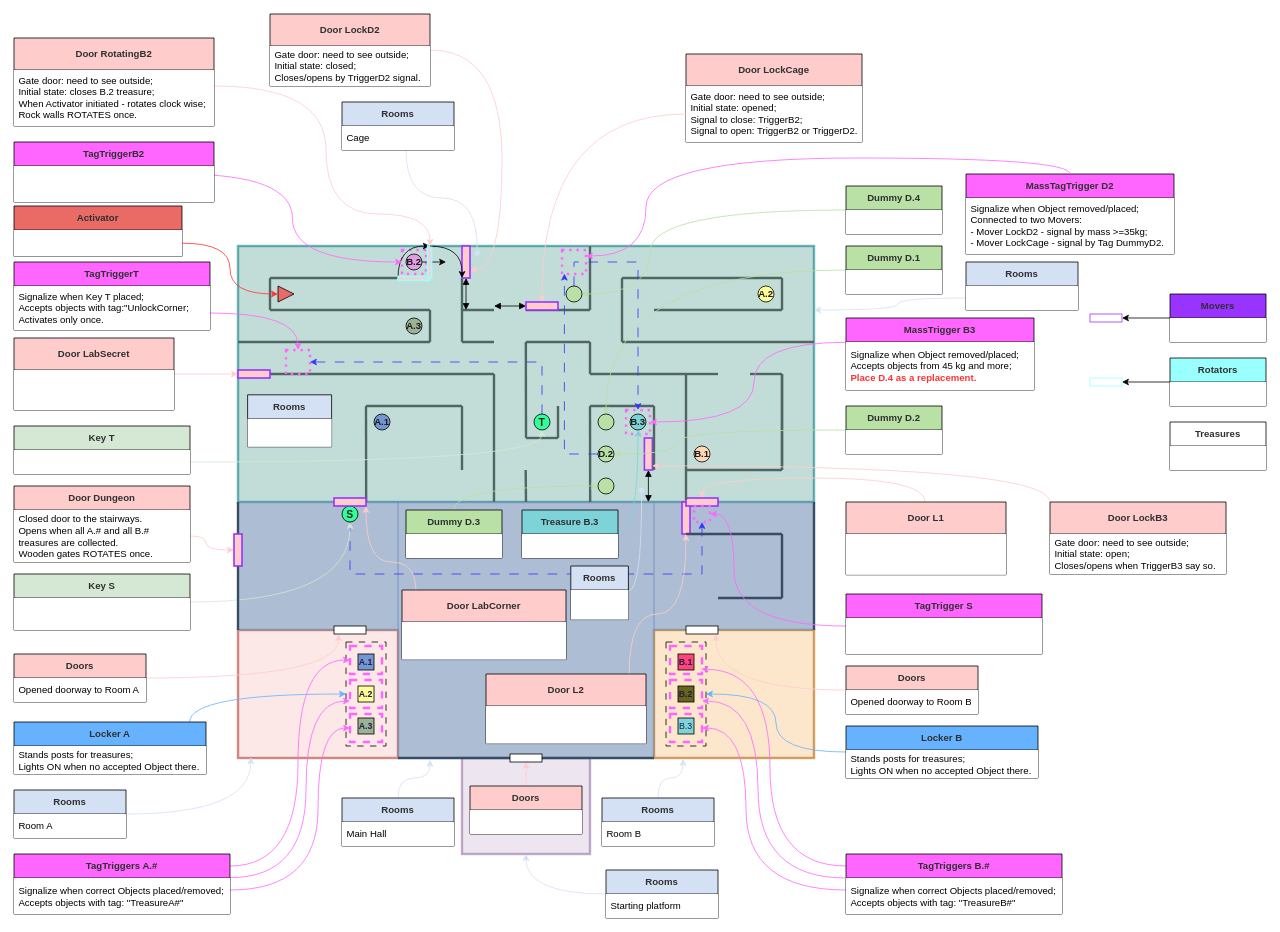
This 1280x932 diagram has some shape labels left out. The centre of each missing label's shape, as x and y in pixels:
Acitvate tunnel to the A.3 treasure; Move objects and activate.: point 98,243
Closed door to the labyrinth; Opens with key S; Moves UP once.: point 926,554
Closed secret labyrinth door; Opens Trigger T says so; Moves UP once.: point 94,390
Closed shortcut labyrinth door; Opens when door L1 opens; Moves UP once.: point 566,724
Closed shortcut labyrinth door; Opens when door LabSecret opens; Moves UP once.: point 484,640
D.1: point 605,421
D.3: point 605,485
D.4: point 573,293
Key to the labyrinth Door L.1; Tag: "UnlockLabyrinth".: point 102,614
Key to the shortcut South East corner: point 102,462
Labyrinth: point 1022,298
m = 10kg: point 454,546
m = 20kg: point 894,282
m = 40kg: point 894,442
m = 50kg: point 894,222
m = 55 kg: point 570,546
Move door: point 1218,330
Open door to the Hall: point 526,822
Rotate door: point 1218,394
Signalize when Key S placed/removed; Accepts objects with tag:"UnlockLabyrinth": point 944,636
Signalize when treasure B2 placed/removed; Accepts objects with tag:"UnlockB2".: point 114,184
South West Labyrinth corner: point 289,432
Treasure for hunting: point 1218,458
Vault: point 599,604
